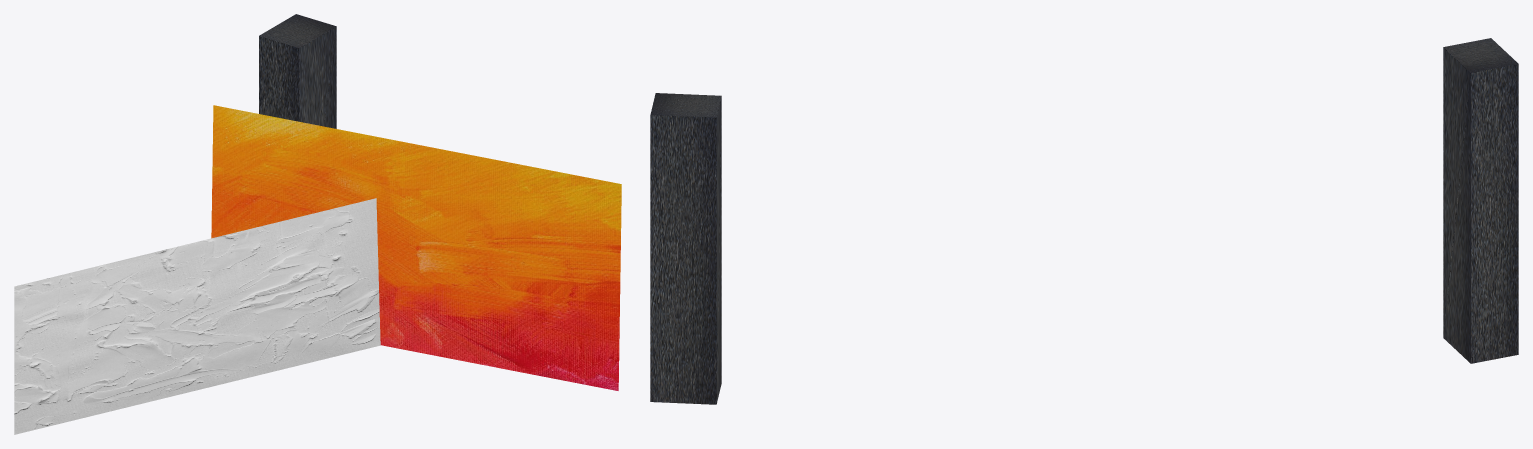
Rendered from color_scene.gltf.
The picture shows the model from 3 angles, left to right: view 1: azimuth 30°, elevation 25°; view 2: azimuth 150°, elevation 25°; view 3: azimuth 270°, elevation 25°; orthographic projection. The views are drawn at different scales.
Parts seen in each view (by area): view 1: Plane (×2), Box; view 2: Box; view 3: Box.
Part boxes in pixels (x1,y1,x2,y2): Plane (×2): [14, 105, 621, 434]; Box: [259, 14, 336, 128]; Box: [650, 93, 721, 404]; Box: [1443, 38, 1518, 363].
Size of the model in its own units: 17.42 by 9.31 by 10.93.
Materials: 3 (3 with a texture image).
